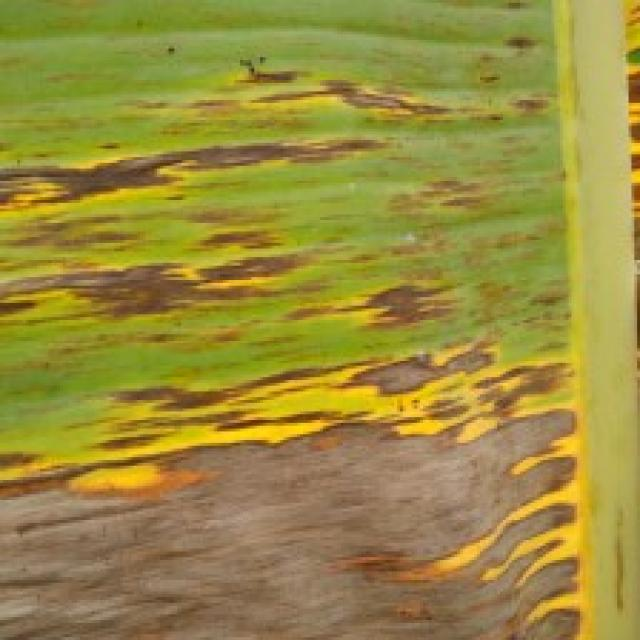Early_leaf_spot: (0, 51, 594, 639), (578, 0, 640, 279)
